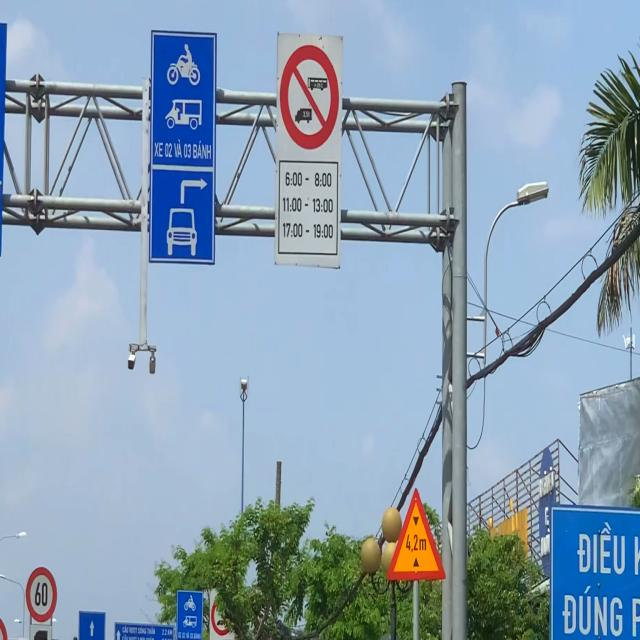Cam con lai: (279, 44, 339, 154)
Chieu cao toi da: (0, 613, 8, 640)
Nguy hiem: (386, 486, 446, 581)
Toc do toi da: (25, 566, 58, 622)
